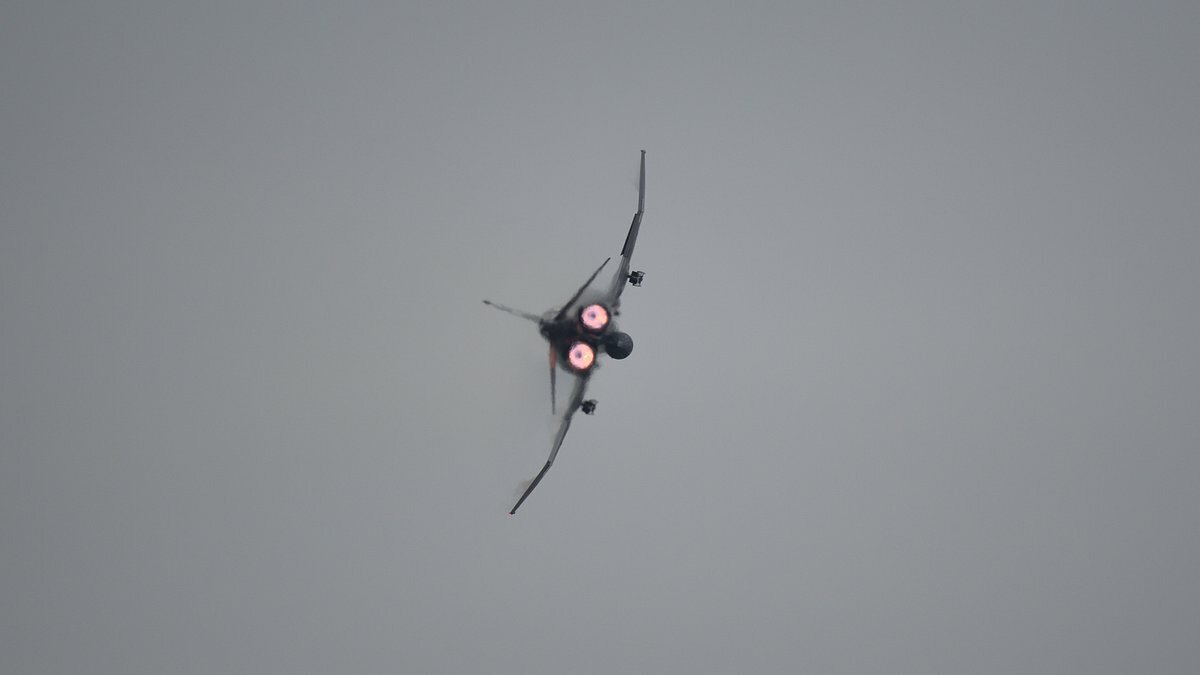F4: (481, 148, 647, 515)
